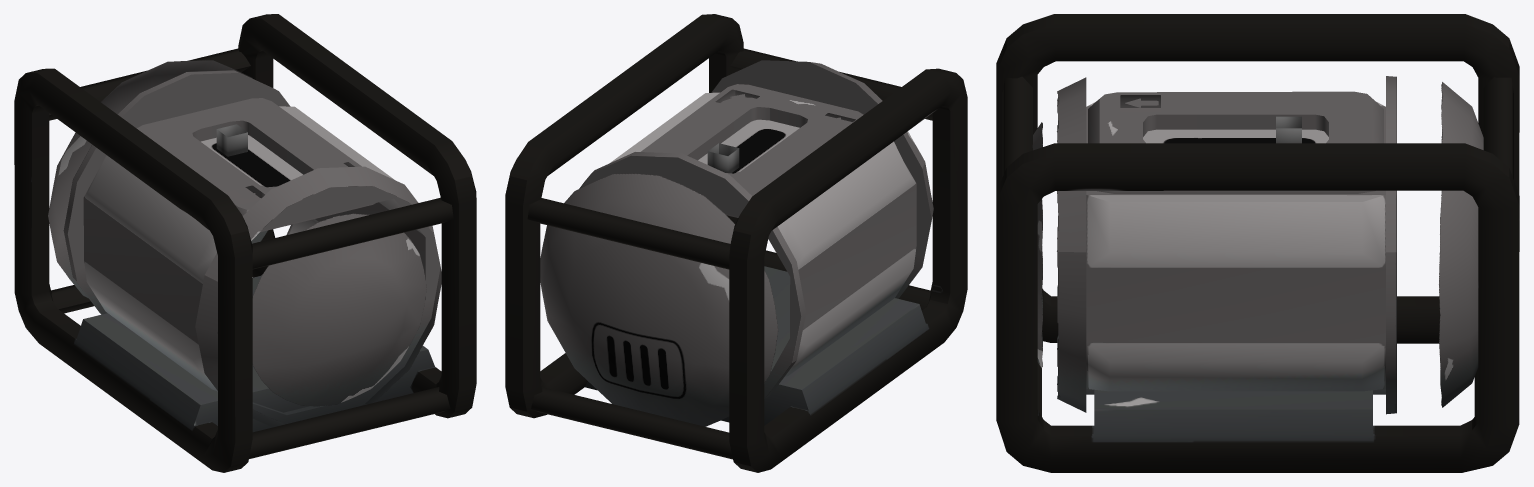
The model's file is obj_interactive_electricengine_01_off.fbx.
3 views of the same model, side by side, from view 1: azimuth 30°, elevation 25°; view 2: azimuth 150°, elevation 25°; view 3: azimuth 270°, elevation 25° (orthographic). The views are drawn at different scales.
Visible parts, largest first — view 1: obj_interactive_electricengine_01_off; view 2: obj_interactive_electricengine_01_off; view 3: obj_interactive_electricengine_01_off.
Part boxes in pixels (x1,y1,x2,y2): obj_interactive_electricengine_01_off: [14, 14, 476, 472]; obj_interactive_electricengine_01_off: [505, 14, 967, 472]; obj_interactive_electricengine_01_off: [996, 14, 1519, 472].
Bounding box in the file's own units: 2.05 × 2.04 × 3.03.
